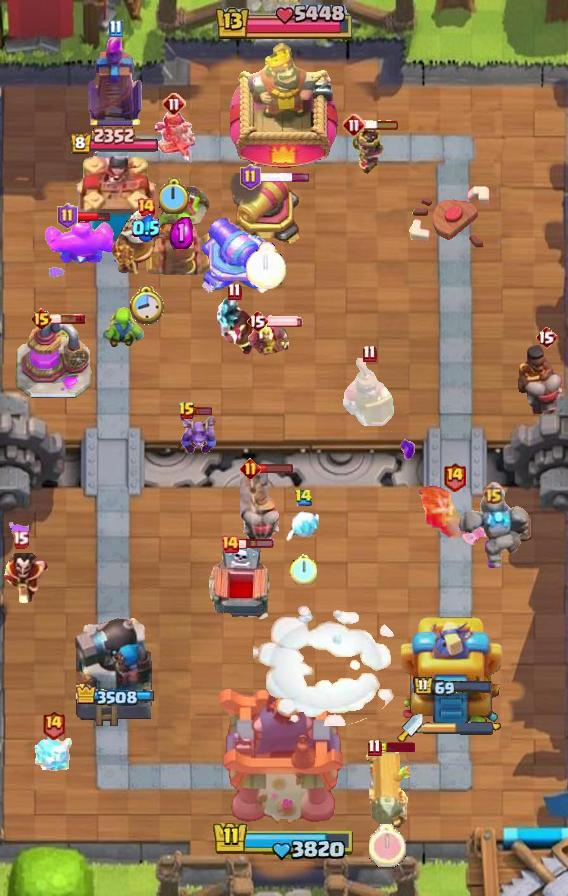bar: (401, 611, 505, 731)
bar-level: (154, 181, 212, 229)
bat: (32, 734, 74, 776), (282, 506, 324, 544)
battle-healer: (364, 746, 410, 830)
bomber-evolution: (348, 127, 388, 177)
bowler: (247, 320, 293, 358)
clock: (212, 820, 356, 862), (213, 5, 355, 43)
earthquake: (342, 358, 396, 428)
electro-spirit: (132, 214, 160, 242), (171, 217, 194, 249)
elite-barbarian: (516, 342, 568, 416), (240, 465, 284, 551)
elixir: (246, 243, 287, 289), (370, 824, 407, 867), (128, 286, 163, 326), (159, 178, 189, 214), (289, 553, 317, 585)
elixir-collector: (111, 207, 181, 281)
elixir-golem-mid: (206, 542, 276, 628)
emote: (257, 173, 311, 184), (75, 209, 111, 222), (266, 315, 304, 327), (237, 538, 274, 550), (364, 119, 400, 131), (50, 313, 86, 325), (258, 462, 294, 473), (379, 742, 415, 752), (194, 406, 214, 416)
goblin-brawler: (146, 210, 216, 278)
hog-rider: (418, 483, 490, 551)
ice-spirit-evolution-symbol: (85, 36, 145, 128)
king-tower: (216, 684, 352, 826), (230, 43, 338, 181)
king-tower-bar: (423, 721, 495, 735)
lumberjack: (0, 549, 52, 603), (211, 297, 257, 357)
pekka: (15, 318, 93, 400)
queen-tower: (68, 156, 160, 256)
royal-delivery: (177, 413, 219, 457)
royal-recruit: (198, 217, 274, 301), (227, 173, 305, 249)
selected: (68, 127, 159, 156), (74, 685, 154, 708), (413, 676, 493, 698)
skeleton-dragon: (152, 109, 196, 169)
text: (41, 709, 66, 740), (442, 461, 467, 491), (162, 92, 186, 116), (342, 113, 366, 137), (31, 307, 54, 331), (240, 164, 261, 190), (57, 203, 78, 229), (482, 482, 505, 505), (246, 309, 268, 333), (535, 325, 557, 349), (240, 457, 261, 478), (136, 197, 156, 217), (220, 534, 240, 554), (294, 489, 313, 508), (178, 401, 196, 421), (11, 531, 28, 550), (362, 344, 377, 363), (367, 738, 382, 757), (108, 19, 123, 37), (227, 283, 241, 301)
tornado: (44, 217, 116, 267)
tower-bar: (71, 611, 157, 731)
valkyrie-evolution: (455, 496, 531, 574)
wall-breaker: (253, 604, 405, 726)
zap: (101, 307, 145, 349)
